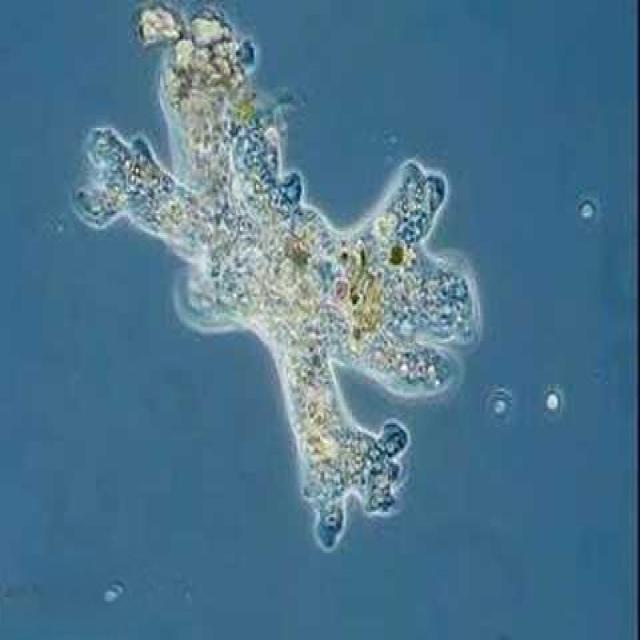Amoeba: (69, 2, 484, 556)
